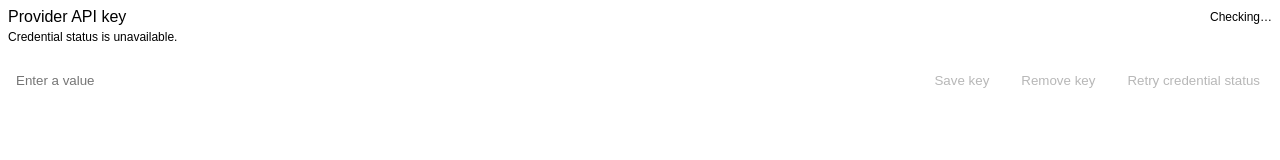
Test: API consumer administration › does not let an old credential presence read replace a successful save
In the password field labelled "Provider API key": {"x": 461, "y": 80} [8,60,914,100], type "fixture-only"
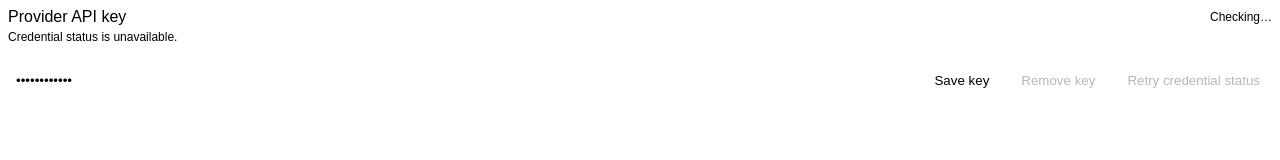
Click the button "Save key": {"x": 962, "y": 80} [922,64,1001,96]
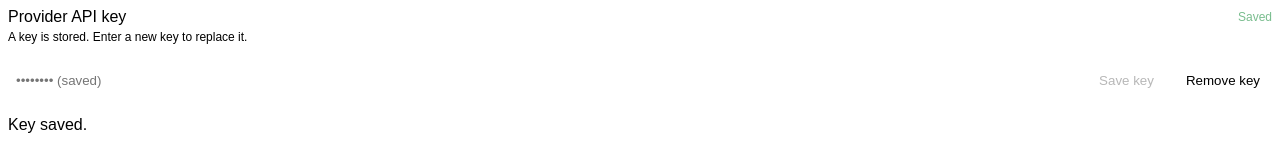
Check: the text "Key saved." is shown, box [8,116,87,133]
Check: the text "A key is stored. Enter a new key to replace it." is shown, box [8,30,248,44]
Check: the password field labelled "Provider API key" is empty, box [8,60,1079,100]
